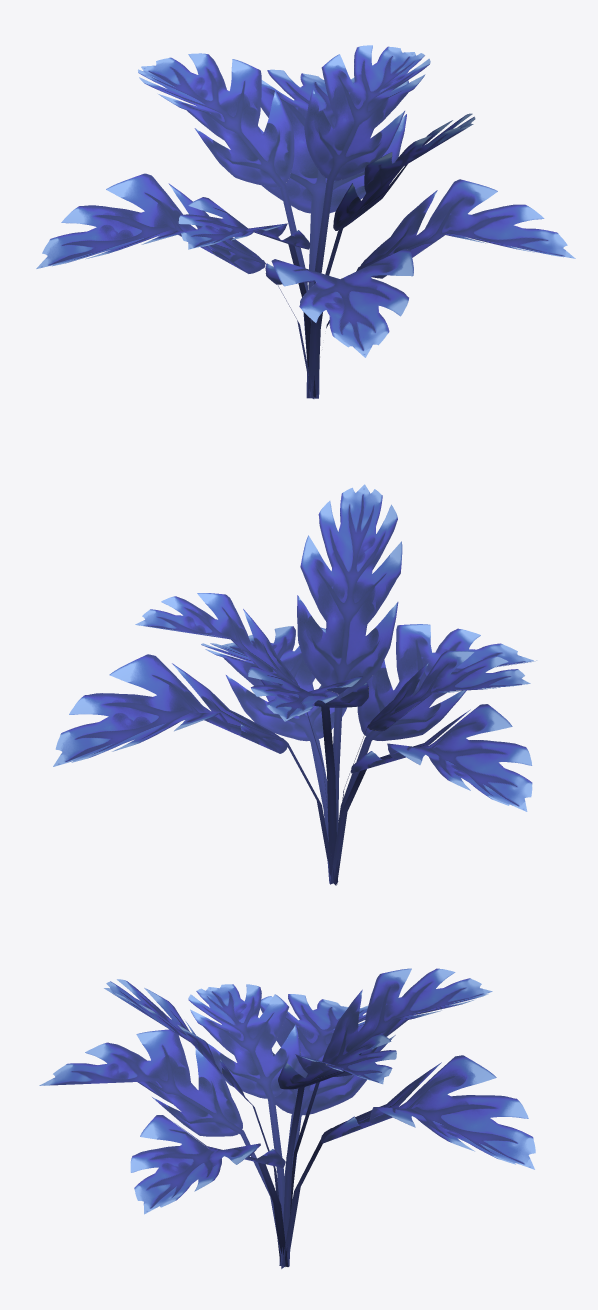
File: Flora_Axe.fbx
3 views of the same model, one above another, from view 1: azimuth 30°, elevation 25°; view 2: azimuth 150°, elevation 25°; view 3: azimuth 270°, elevation 25° (orthographic). The views are drawn at different scales.
Visible parts, largest first — view 1: Axe; view 2: Axe; view 3: Axe.
Boxes of the visible parts, <box> form: Axe: <box>36,45,575,398</box>; Axe: <box>53,484,537,885</box>; Axe: <box>39,968,535,1268</box>.
Bounding box in the file's own units: 159 × 110 × 173.
